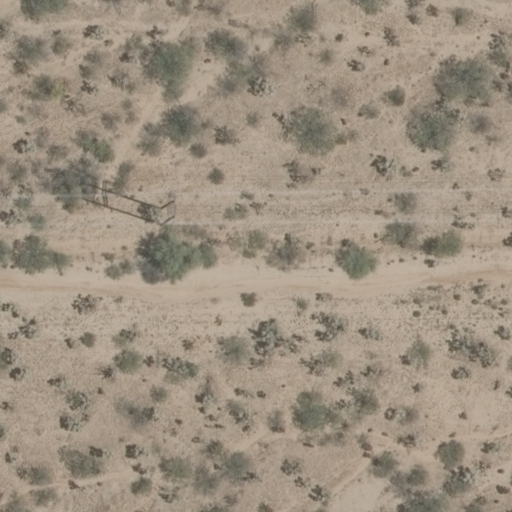TT: (157, 194, 178, 228)
